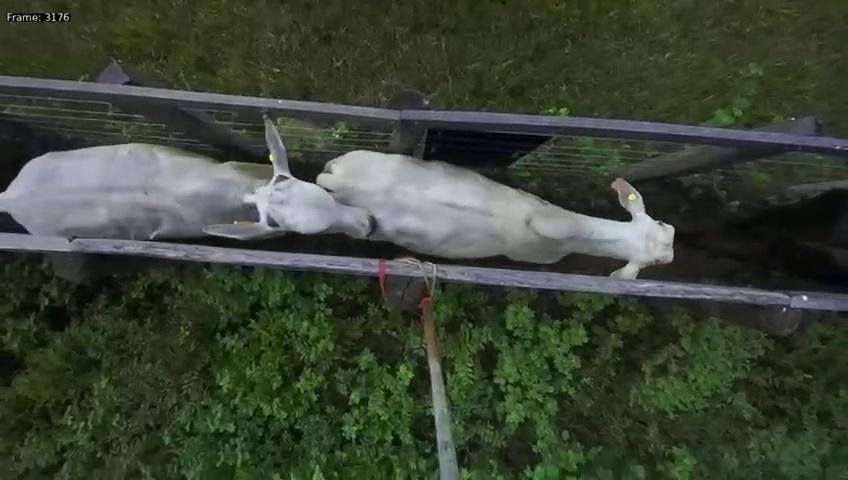cattle: (0, 110, 382, 248), (311, 141, 675, 278)
